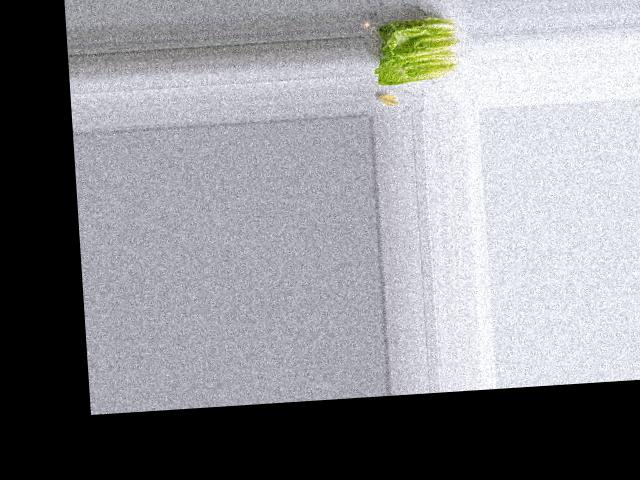lettuce: (370, 13, 462, 89)
